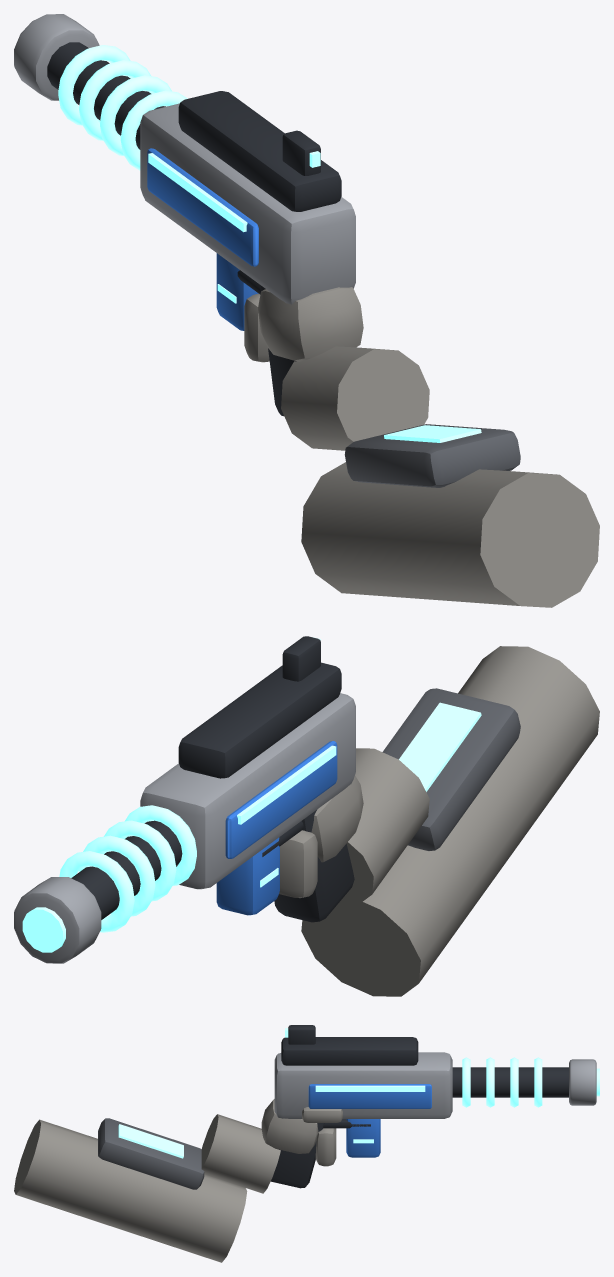
Rendered from blaster.glb.
3 views of the same model, one above another, from view 1: azimuth 30°, elevation 25°; view 2: azimuth 150°, elevation 25°; view 3: azimuth 270°, elevation 25° (orthographic). The views are drawn at different scales.
Parts seen in each view (by area): view 1: Blaster; view 2: Blaster; view 3: Blaster.
Boxes of the visible parts, <box> form: Blaster: <box>14,14,599,607</box>; Blaster: <box>14,636,599,996</box>; Blaster: <box>14,1025,599,1262</box>.
Bounding box in the file's own units: 0.116 × 0.3742 × 0.8552.
